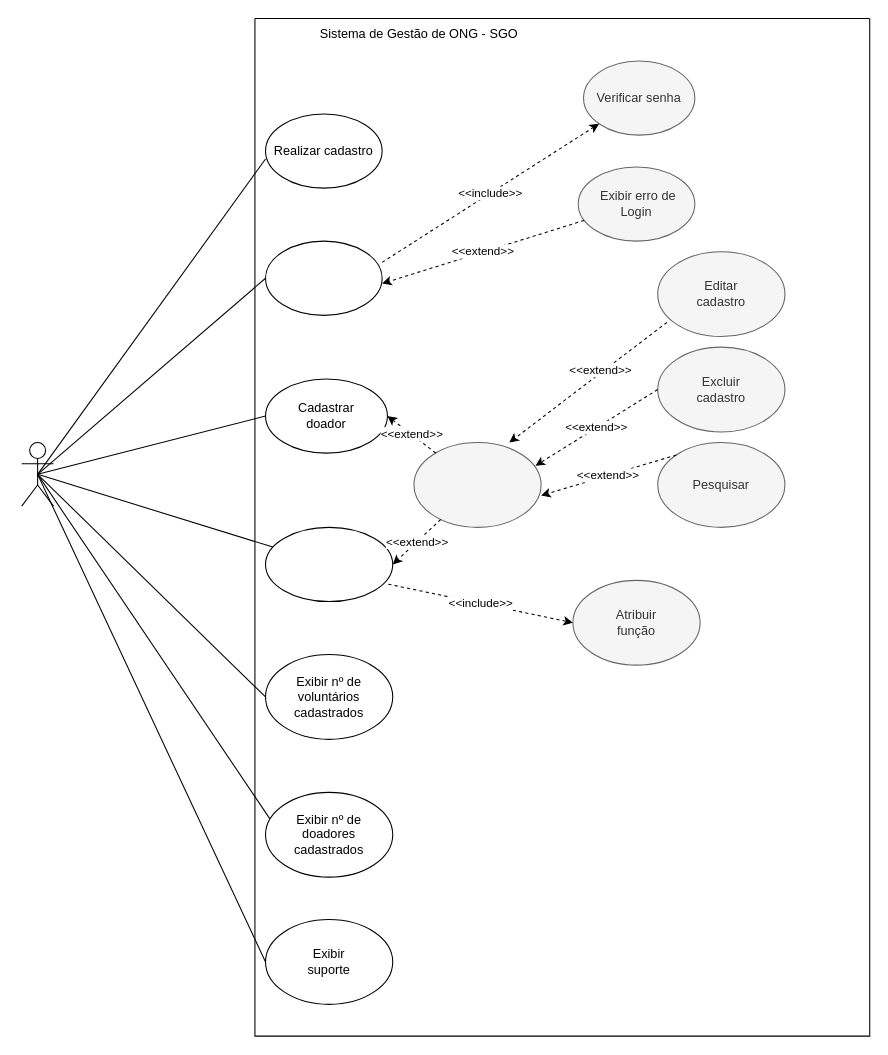
Some shapes in this 888 by 1055 pixel diagram are drawn without their labels. Here are the shapes that lost their labels. From the top down, the centre of each, then its label:
pixel 323 277: Realizar login
pixel 37 473: Gestor
pixel 477 484: Visualizar lista
pixel 328 564: Cadastrar voluntário
